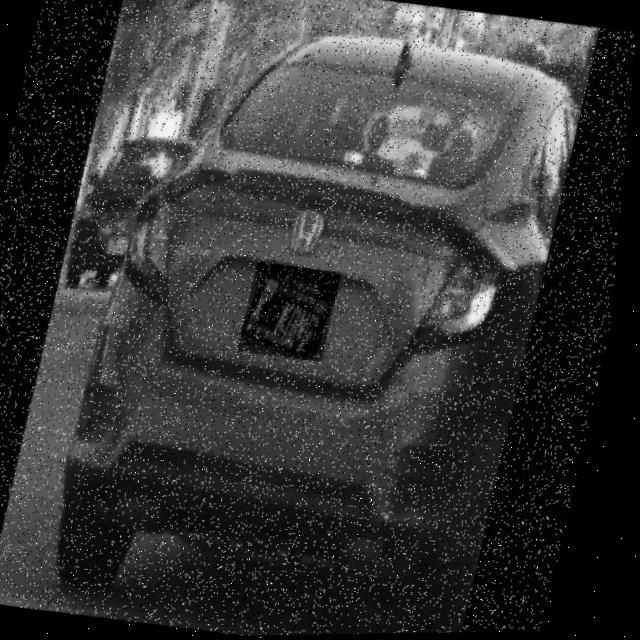LicensePlate: (243, 262, 347, 364)
